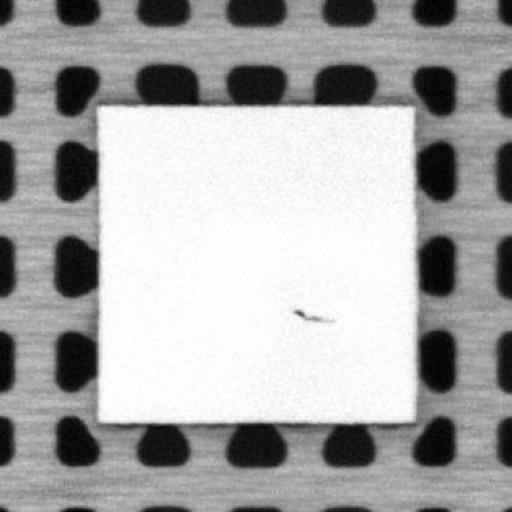DIE_INK: (290, 305, 334, 323)
